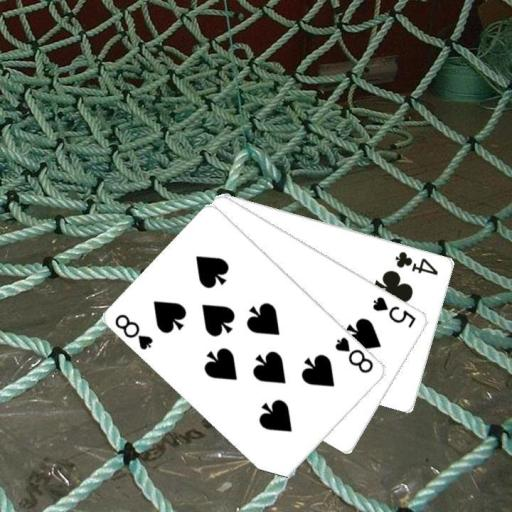4C: (393, 248, 440, 277)
5S: (370, 293, 418, 329)
8S: (332, 334, 376, 375), (112, 311, 156, 352)
